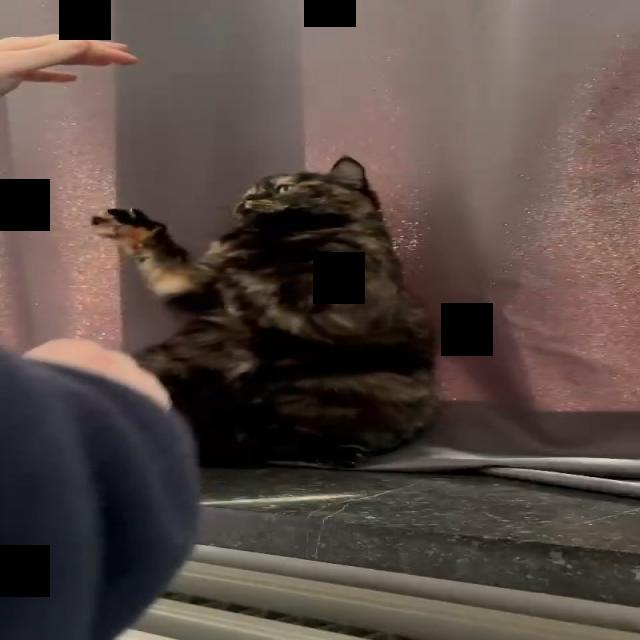authorized: (90, 154, 442, 468)
